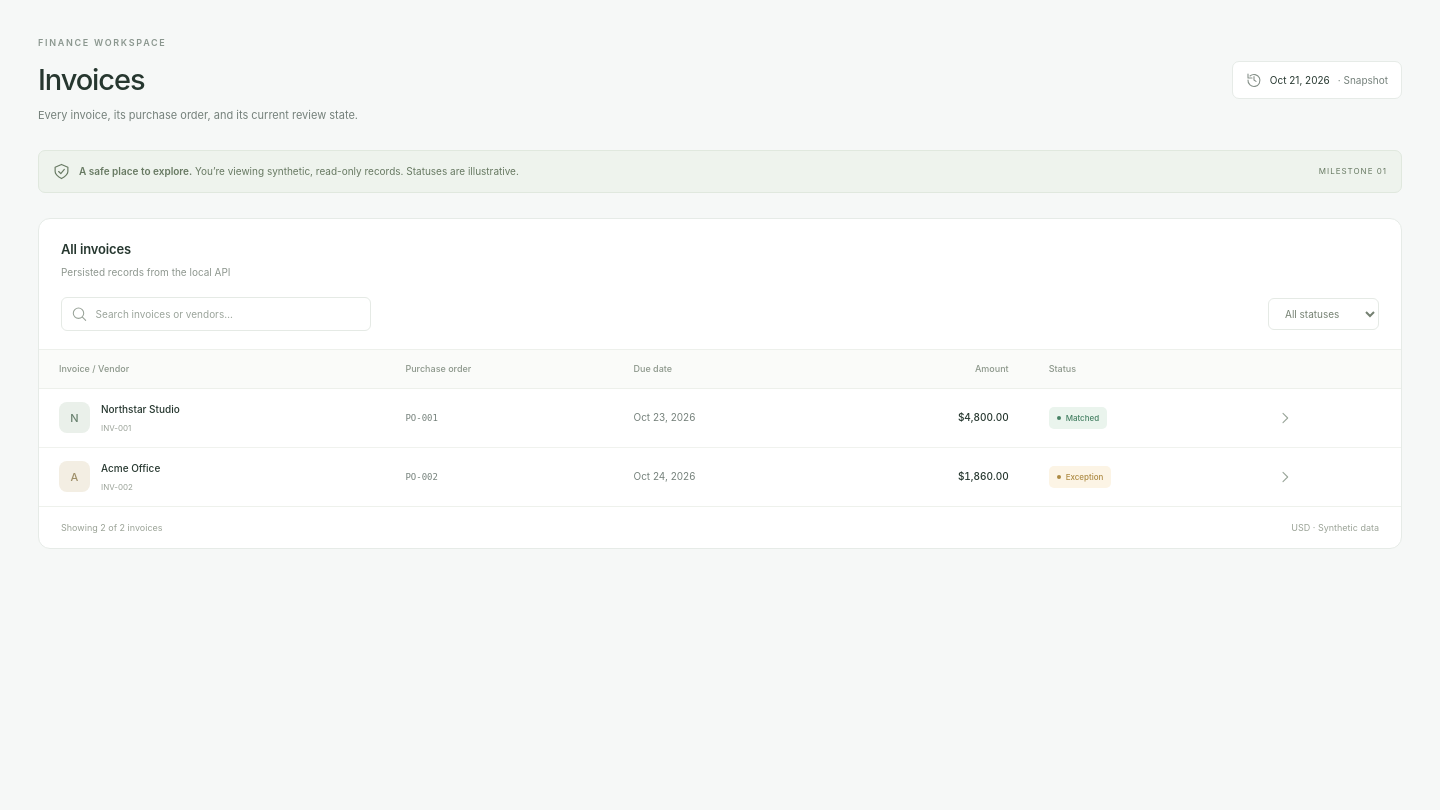
record details show the discrepancy and its persisted audit trail
Click the button named "View INV-002" at (1285, 477), box [1270, 462, 1300, 492]
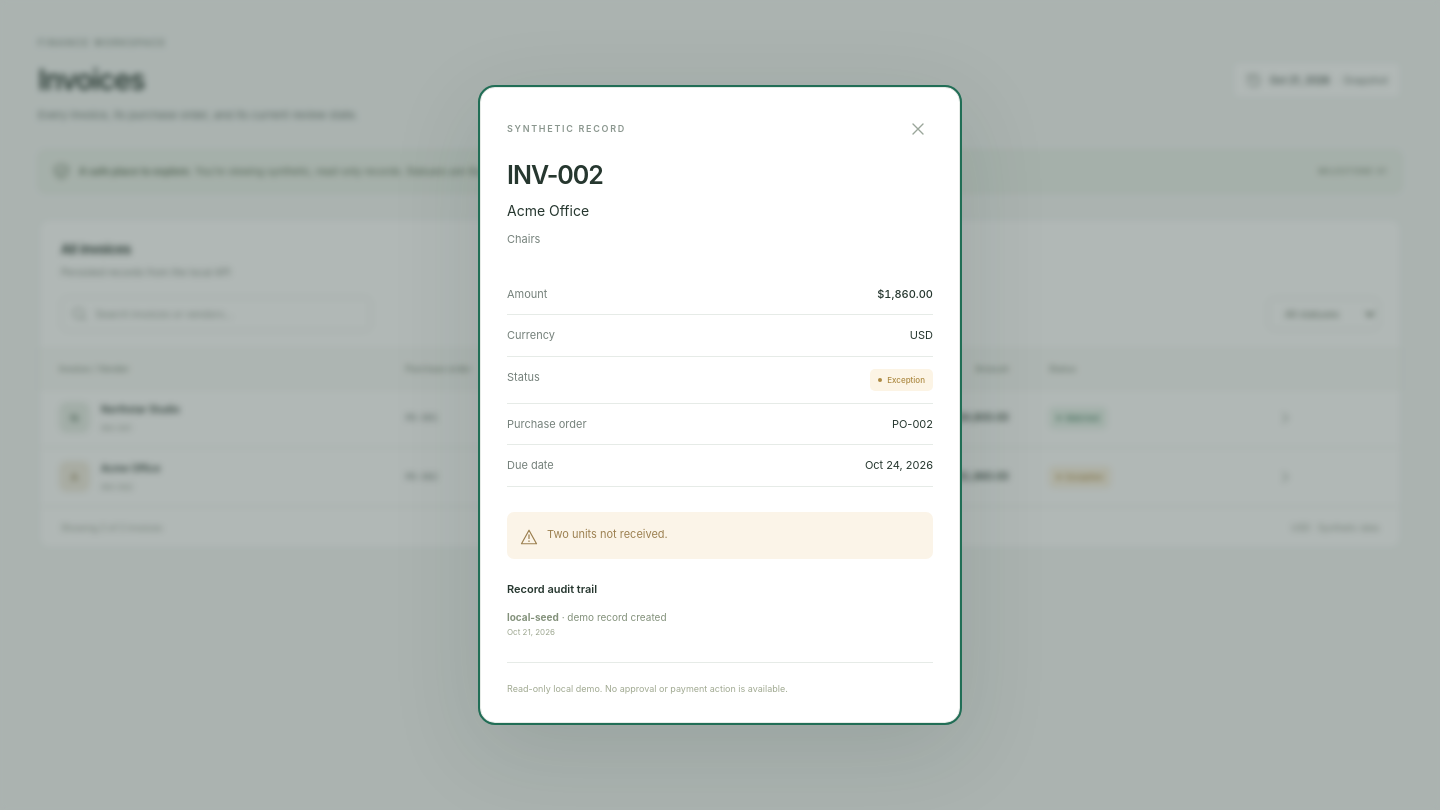
Now the text "Two units not received." is shown, box [547, 525, 668, 546]
Now the text "local-seed" is shown, box [507, 611, 559, 623]
Now the text "$1,860.00" is shown, box [877, 286, 933, 302]
Click the button named "Close record details" at (918, 129), box [903, 114, 933, 144]
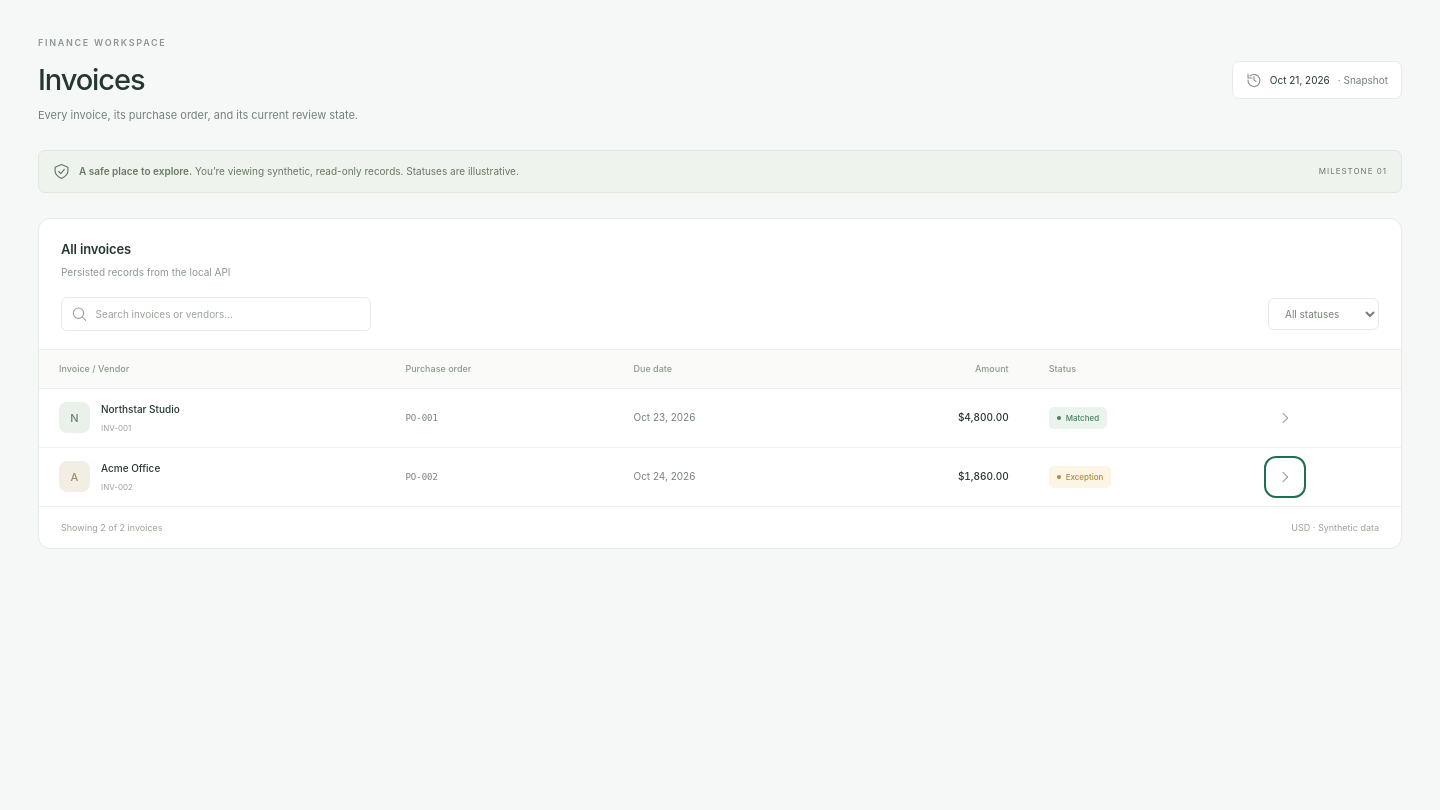
Now the dialog is gone
